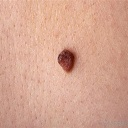Melanoma: (56, 48, 76, 75)
